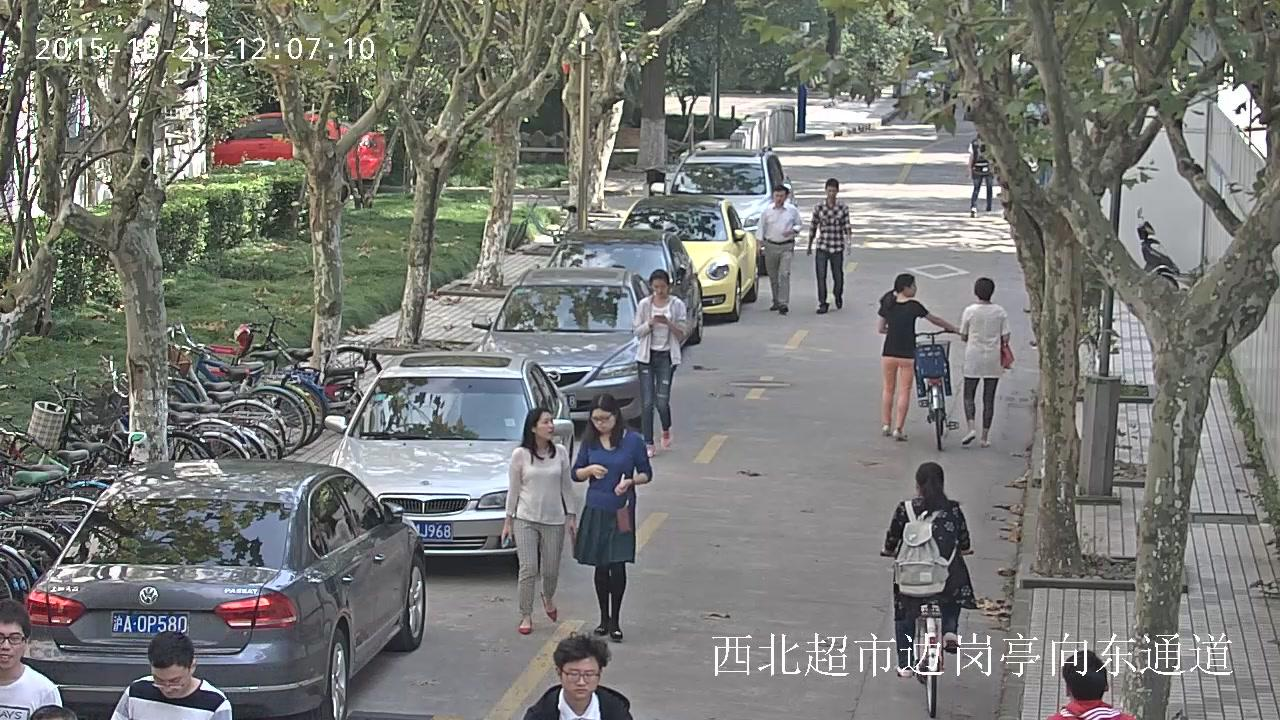face: (562, 655, 600, 700), (150, 661, 189, 697), (0, 621, 25, 668), (592, 408, 615, 433), (536, 411, 554, 440), (652, 278, 668, 298), (773, 190, 785, 205), (826, 185, 837, 199), (908, 281, 916, 297)
